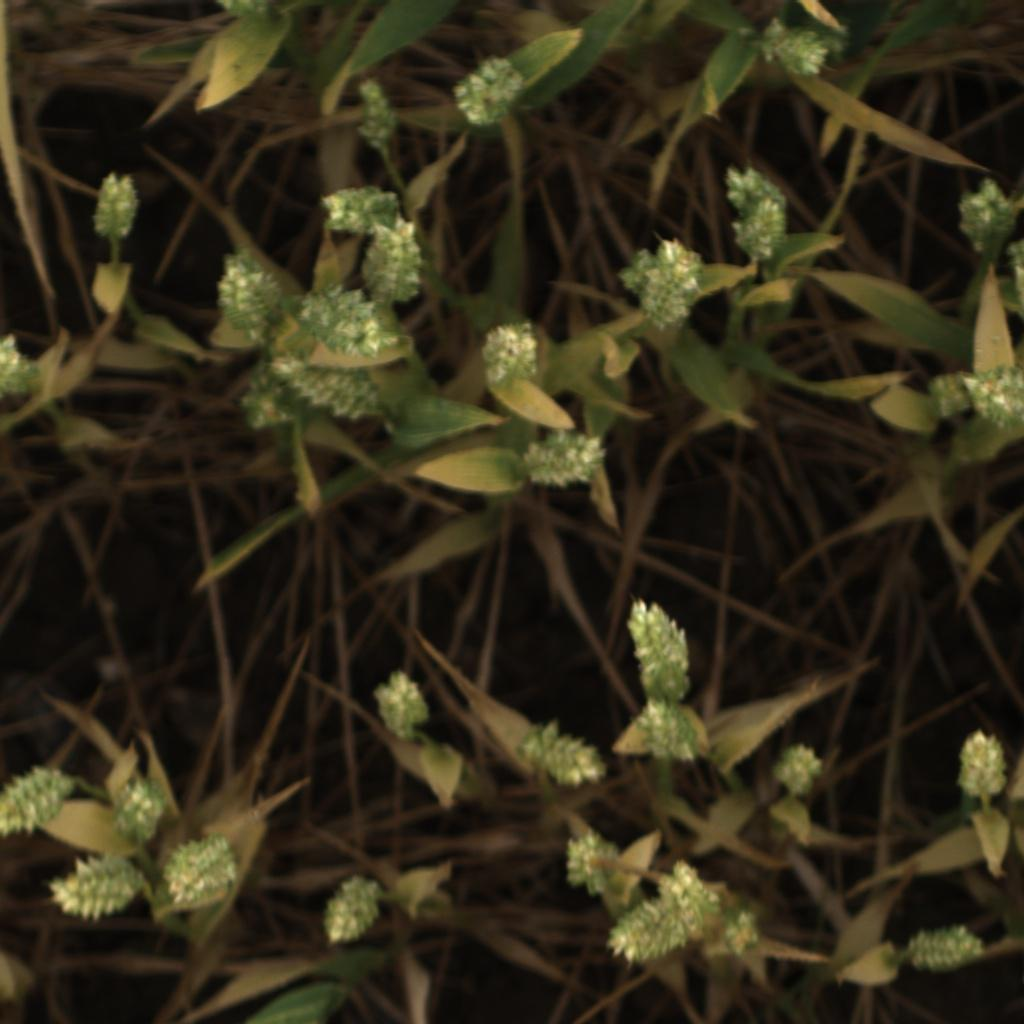0-0: (265, 312, 387, 423), (292, 279, 401, 363), (716, 164, 796, 269), (621, 596, 695, 705), (43, 846, 147, 923), (213, 245, 288, 346), (450, 47, 532, 134), (514, 715, 608, 790), (637, 237, 706, 334), (649, 857, 725, 945), (317, 861, 386, 956), (0, 759, 77, 843), (364, 218, 431, 314), (163, 830, 247, 905), (950, 171, 1024, 254), (602, 900, 690, 967), (520, 427, 613, 489), (309, 180, 402, 236), (755, 18, 840, 78), (955, 363, 1024, 434), (369, 667, 432, 743), (635, 697, 702, 768), (107, 764, 166, 844), (953, 726, 1015, 802), (479, 317, 543, 390), (561, 829, 626, 898), (84, 166, 143, 242), (903, 923, 985, 976), (349, 73, 395, 153), (770, 740, 828, 800), (233, 378, 291, 434), (0, 328, 37, 411), (925, 365, 979, 419), (720, 902, 763, 958), (612, 246, 658, 296), (212, 0, 278, 25)
